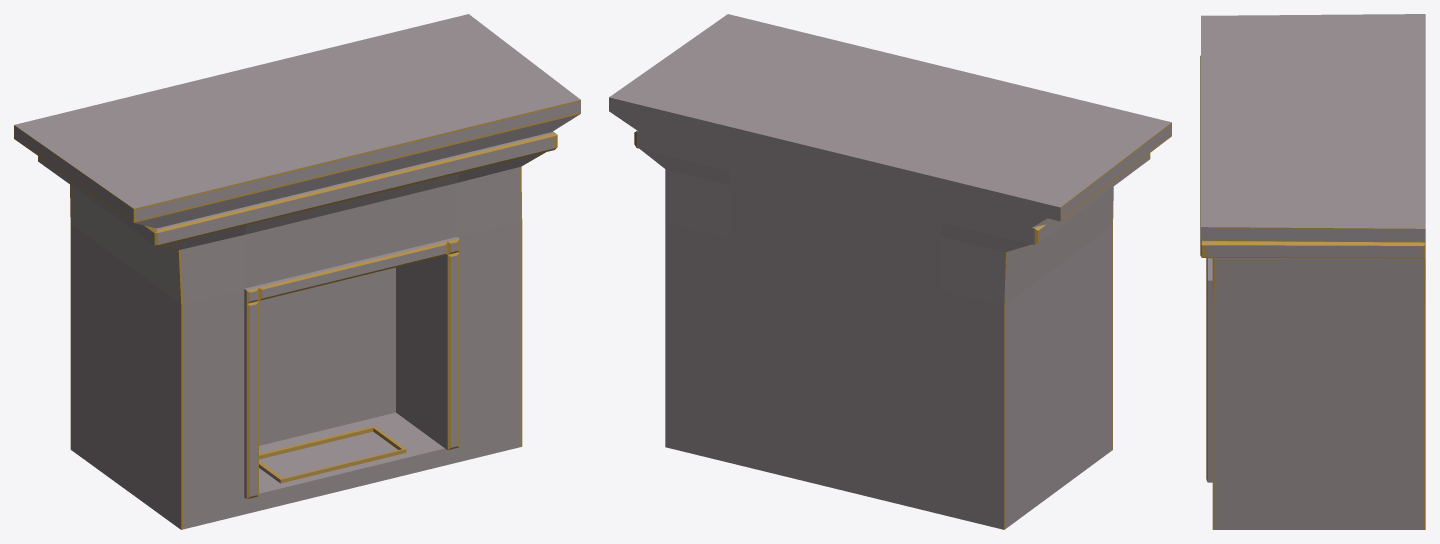
The model's file is fireplace.fbx.
3 views of the same model, side by side, from view 1: azimuth 30°, elevation 25°; view 2: azimuth 150°, elevation 25°; view 3: azimuth 270°, elevation 25° (orthographic). The views are drawn at different scales.
Parts seen in each view (by area): view 1: Cube; view 2: Cube; view 3: Cube.
Boxes of the visible parts, x1,y1,x2,y2 form: Cube: [14, 14, 580, 529]; Cube: [609, 14, 1171, 529]; Cube: [1200, 14, 1425, 529].
Size of the model in its own units: 344 by 245 by 152.
